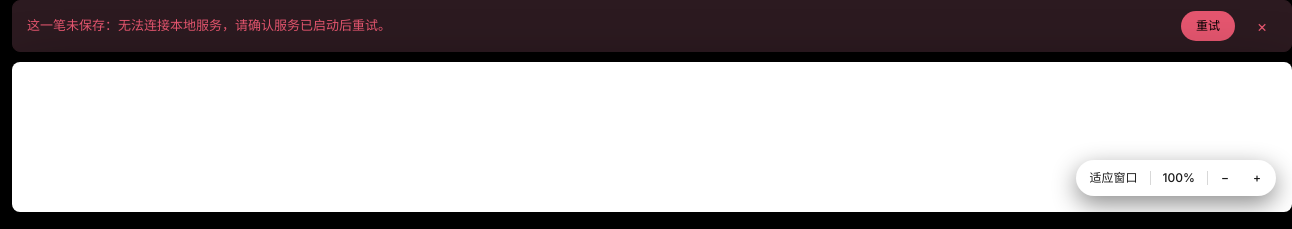
Scenario: 保存失败保留笔画 › 无法与服务端快照对齐时移除笔画，但横幅明说「这一笔未保存」
The width and height of the screenshot is (1292, 229).
Expected: the message "这一笔未保存：无法连接本地服务，请确认服务已启动后重试。 重试 ×" is shown, [12,0,1291,52]
Click the button "重试".
click(1208, 26)  # box [1181,11,1235,41]
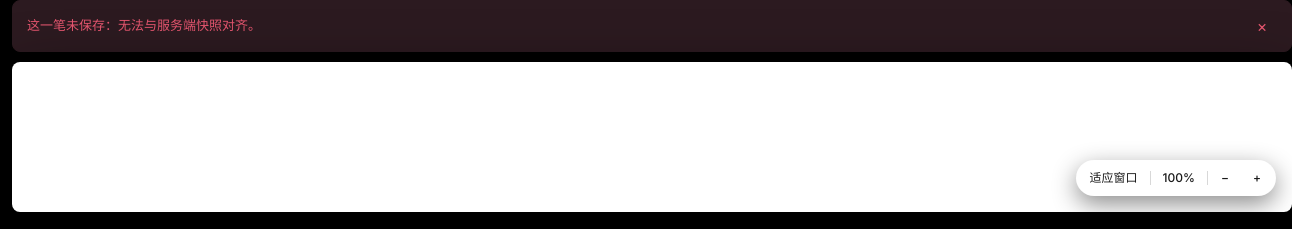
Expected: the message shows "这一笔未保存", [27,17,261,33]
Now the message shows "无法与服务端快照对齐", box [27,17,261,33]
